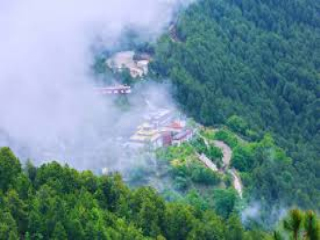smoke: (87, 72, 217, 196)
